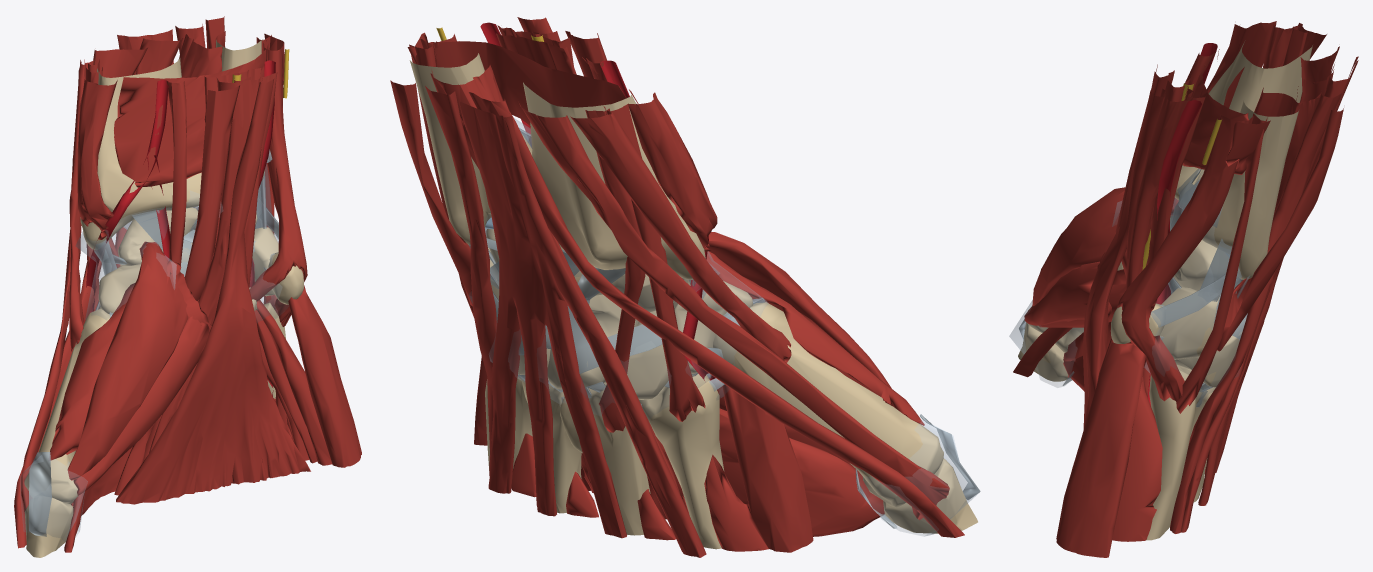
File: joint-wrist.db2f3e50.glb
The picture shows the model from 3 angles, left to right: view 1: azimuth 30°, elevation 25°; view 2: azimuth 150°, elevation 25°; view 3: azimuth 270°, elevation 25°; orthographic projection. The views are drawn at different scales.
Visible parts, largest first — view 1: Muscle_PalmarisLongusMuscle_Right, Muscle_AbductorPollicisBrevis_Right, Capsule_ArticularCapsuleOfRadiocarpalJoint_Right, Muscle_PronatorQuadratus_Right, Muscle_HumeroUlnarHeadOfFlexorDigitorumSuperficialis_Right, Muscle_AbductorDigitiMinimiOfHand_Right, Bone_Radius_Right, Muscle_FlexorCarpiRadialis_Right, Muscle_HumeralHeadOfFlexorCarpiUlnaris_Right, Muscle_DeepHeadOfFlexorPollicisBrevis_Right, Muscle_SuperficialHeadOfFlexorPollicisBrevis_Right, Muscle_BrachioradialisMuscle_Right (+30 smaller); view 2: Muscle_ExtensorDigitorum_Right, Muscle_DorsalInterosseiMusclesOfHand_Right, Muscle_ExtensorPollicisBrevis_Right, Capsule_ArticularCapsuleOfRadiocarpalJoint_Right, Muscle_ExtensorPollicisLongus_Right, Bone_FirstMetacarpalBone_Right, Muscle_AbductorPollicisLongus_Right, Bone_Radius_Right, Muscle_TransverseHeadOfAdductorPollicis_Right, Bone_SecondMetacarpalBone_Right, Muscle_PronatorQuadratus_Right, Capsule_ArticularCapsulesOfMetacarpophalangealJoints_Right (+24 smaller); view 3: Muscle_AbductorDigitiMinimiOfHand_Right, Muscle_HumeralHeadOfFlexorCarpiUlnaris_Right, Capsule_ArticularCapsuleOfRadiocarpalJoint_Right, Bone_Ulna_Right, Muscle_ExtensorDigitiMinimi_Right, Muscle_PalmarisLongusMuscle_Right, Muscle_OpponensDigitiMinimiMuscleOfHand_Right, Muscle_AbductorPollicisBrevis_Right, Muscle_ExtensorDigitorum_Right, Muscle_HumeralHeadOfExtensorCarpiUlnaris_Right, Bone_FifthMetacarpalBone_Right, Muscle_HumeroUlnarHeadOfFlexorDigitorumSuperficialis_Right (+28 smaller).
Part boxes in pixels (box(x1,y1,x2,y2)): Muscle_PalmarisLongusMuscle_Right: box(116, 78, 310, 504); Muscle_AbductorPollicisBrevis_Right: box(67, 241, 188, 480); Capsule_ArticularCapsuleOfRadiocarpalJoint_Right: box(76, 163, 288, 322); Muscle_PronatorQuadratus_Right: box(114, 44, 268, 187); Muscle_HumeroUlnarHeadOfFlexorDigitorumSuperficialis_Right: box(149, 72, 309, 460); Muscle_AbductorDigitiMinimiOfHand_Right: box(288, 285, 361, 467); Bone_Radius_Right: box(80, 57, 201, 250); Muscle_FlexorCarpiRadialis_Right: box(184, 85, 239, 300); Muscle_HumeralHeadOfFlexorCarpiUlnaris_Right: box(249, 40, 307, 326); Muscle_DeepHeadOfFlexorPollicisBrevis_Right: box(50, 261, 211, 460); Muscle_SuperficialHeadOfFlexorPollicisBrevis_Right: box(73, 316, 209, 495); Muscle_BrachioradialisMuscle_Right: box(77, 79, 117, 239); Muscle_ExtensorDigitorum_Right: box(459, 101, 706, 557); Muscle_DorsalInterosseiMusclesOfHand_Right: box(511, 384, 813, 552); Muscle_ExtensorPollicisBrevis_Right: box(519, 103, 949, 520); Capsule_ArticularCapsuleOfRadiocarpalJoint_Right: box(469, 118, 768, 418); Muscle_ExtensorPollicisLongus_Right: box(469, 92, 964, 537); Bone_FirstMetacarpalBone_Right: box(713, 302, 943, 507); Muscle_AbductorPollicisLongus_Right: box(570, 112, 791, 362); Bone_Radius_Right: box(523, 82, 705, 279); Muscle_TransverseHeadOfAdductorPollicis_Right: box(647, 408, 884, 536); Bone_SecondMetacarpalBone_Right: box(639, 373, 724, 549); Muscle_PronatorQuadratus_Right: box(434, 41, 626, 125); Capsule_ArticularCapsulesOfMetacarpophalangealJoints_Right: box(855, 420, 979, 536); Muscle_AbductorDigitiMinimiOfHand_Right: box(1056, 337, 1146, 557); Muscle_HumeralHeadOfFlexorCarpiUlnaris_Right: box(1116, 114, 1253, 401); Capsule_ArticularCapsuleOfRadiocarpalJoint_Right: box(1112, 170, 1246, 407); Bone_Ulna_Right: box(1200, 100, 1298, 279); Muscle_ExtensorDigitiMinimi_Right: box(1170, 93, 1341, 533); Muscle_PalmarisLongusMuscle_Right: box(1082, 90, 1164, 429); Muscle_OpponensDigitiMinimiMuscleOfHand_Right: box(1112, 382, 1162, 541); Muscle_AbductorPollicisBrevis_Right: box(1032, 187, 1178, 305); Muscle_ExtensorDigitorum_Right: box(1181, 56, 1358, 532); Muscle_HumeralHeadOfExtensorCarpiUlnaris_Right: box(1217, 108, 1343, 351); Bone_FifthMetacarpalBone_Right: box(1146, 365, 1202, 540); Muscle_HumeroUlnarHeadOfFlexorDigitorumSuperficialis_Right: box(1126, 84, 1193, 391).
Bounding box in the file's own units: 0.0946 × 0.0913 × 0.0678.
